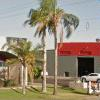Palm tree: (29, 0, 72, 92)
